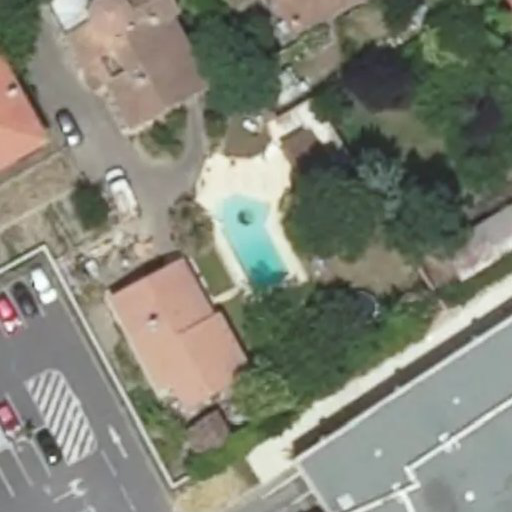pool: (208, 202, 302, 268)
